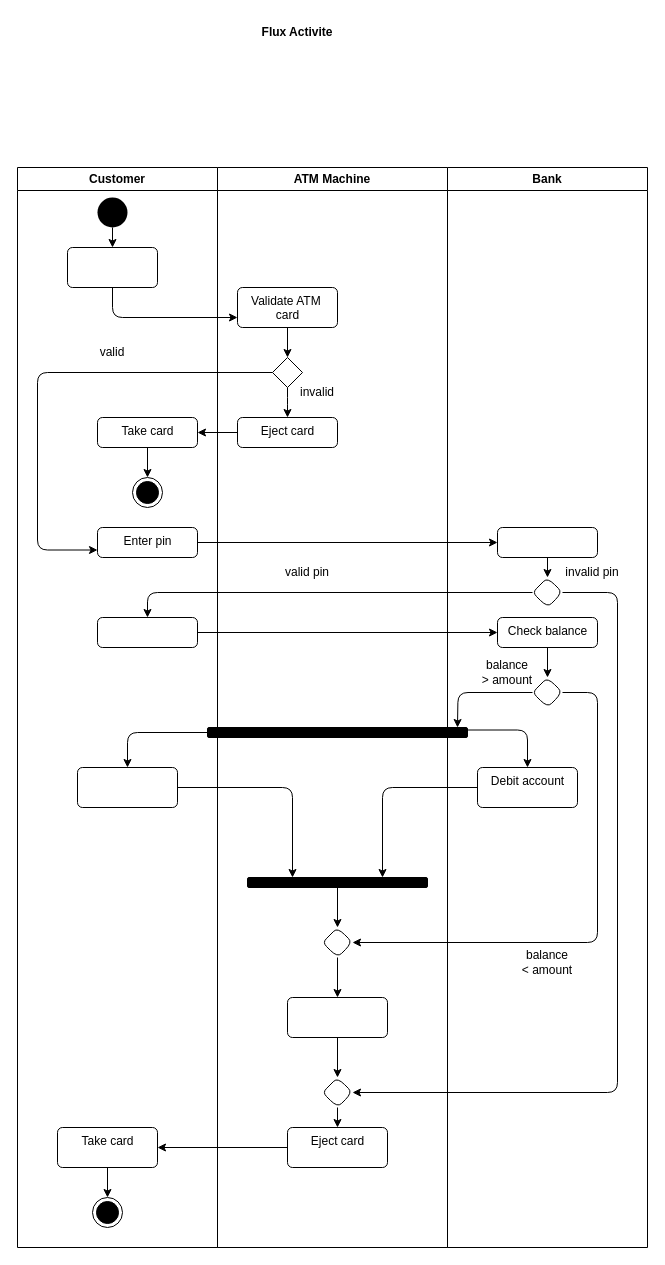
This 665x1265 diagram has some shape labels left out. Here are the shapes that lost their labels. From the top down, the centre of each, then its label:
the point at 112,267: Insert ATM card
the point at 547,542: Authorize pin
the point at 147,632: Enter amount
the point at 127,787: Take money from slot
the point at 337,1017: Show balance
